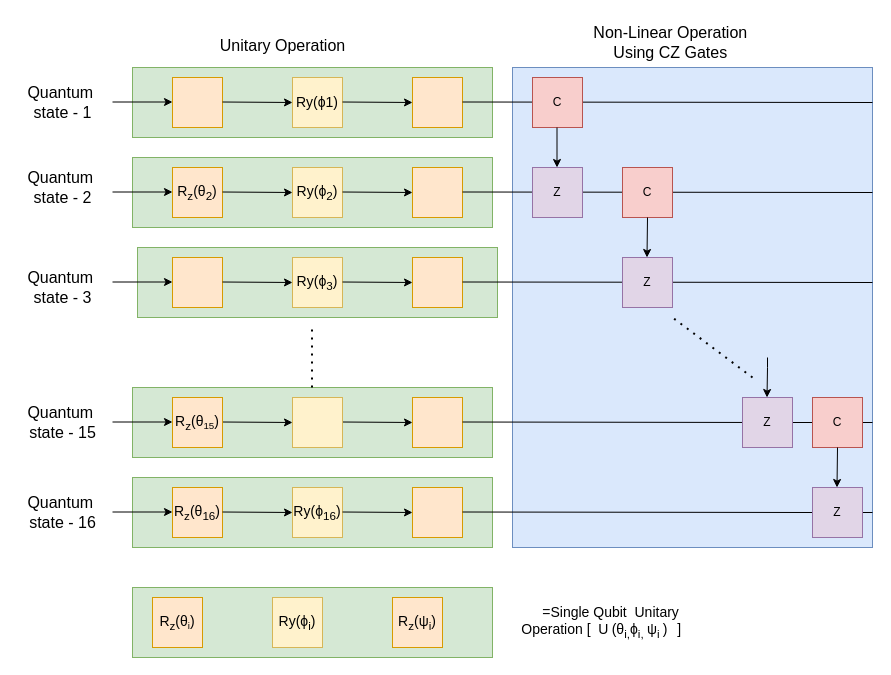
This 891x675 diagram has some shape labels left out. The shapes that lost their labels are listed below. From the top down, each one's box as (x1, y1, x2, y2) in pixels, then its label:
(172, 76, 222, 128): R z (θ 1 )
(412, 76, 462, 128): R z (ψ 1 )
(412, 166, 462, 218): R z (ψ 2 )
(172, 256, 222, 308): R z (θ 3 )
(412, 256, 462, 308): R z (ψ 3 )
(292, 396, 342, 448): Ry(ϕ 15 )
(412, 396, 462, 448): R z (ψ 15 )
(412, 486, 462, 538): R z (ψ 16 )
